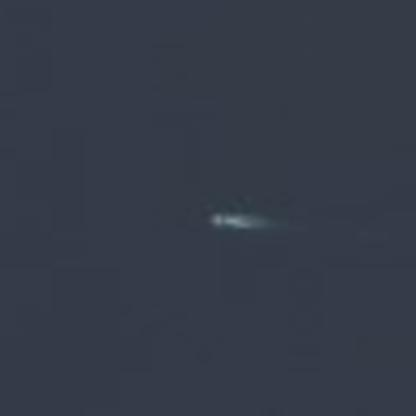ship: (201, 208, 248, 232)
